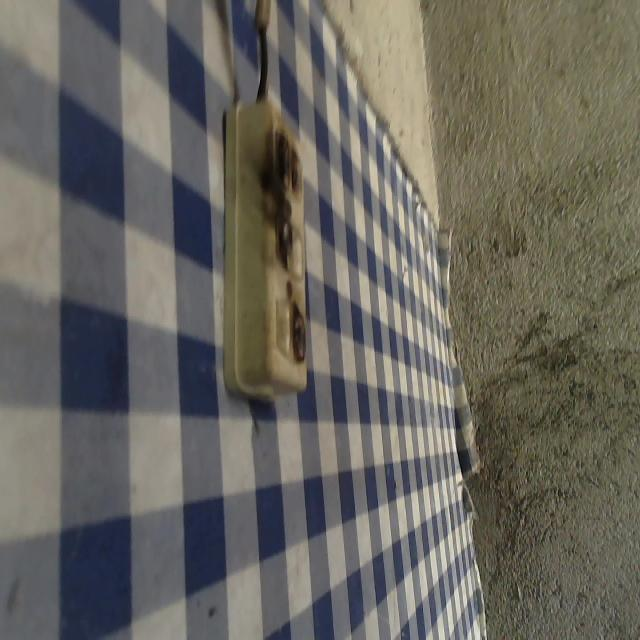-: (268, 123, 303, 204), (286, 299, 309, 369), (270, 213, 295, 272)
